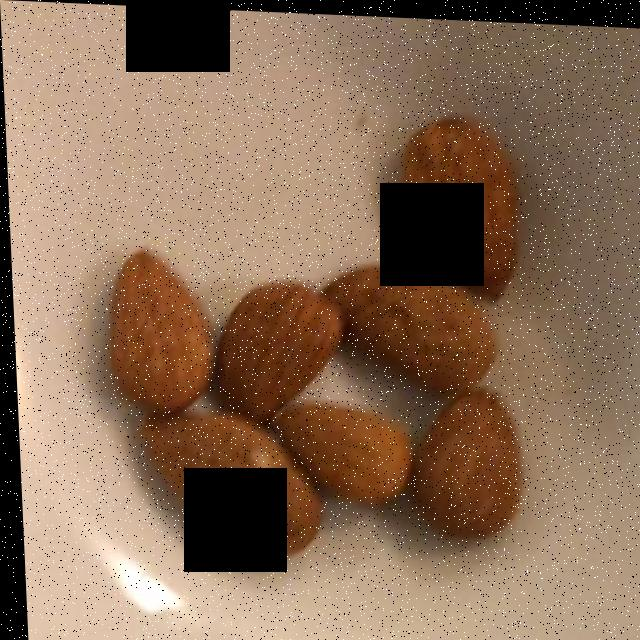almonds: (112, 128, 526, 549)
